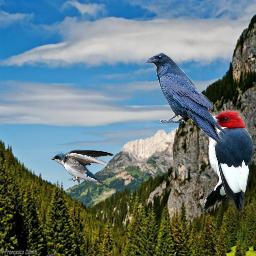Crow: (144, 52, 227, 142)
Swallow: (51, 149, 114, 188)
Woodpecker: (200, 107, 256, 216)
